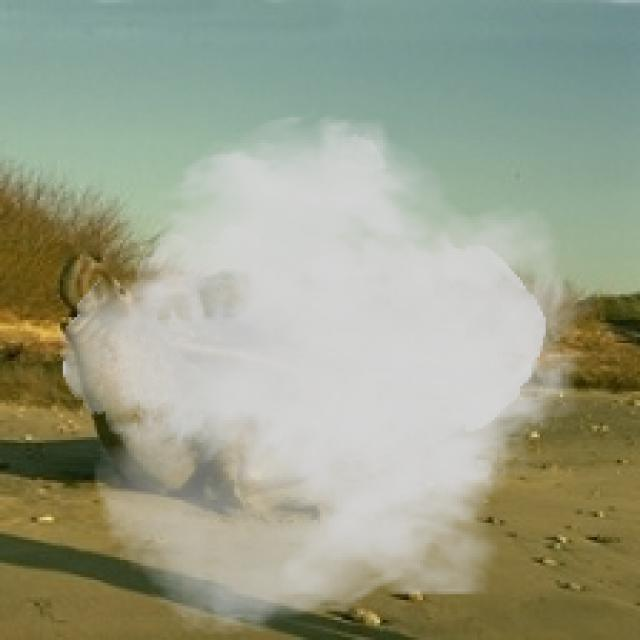Smoke: (60, 108, 603, 638)
